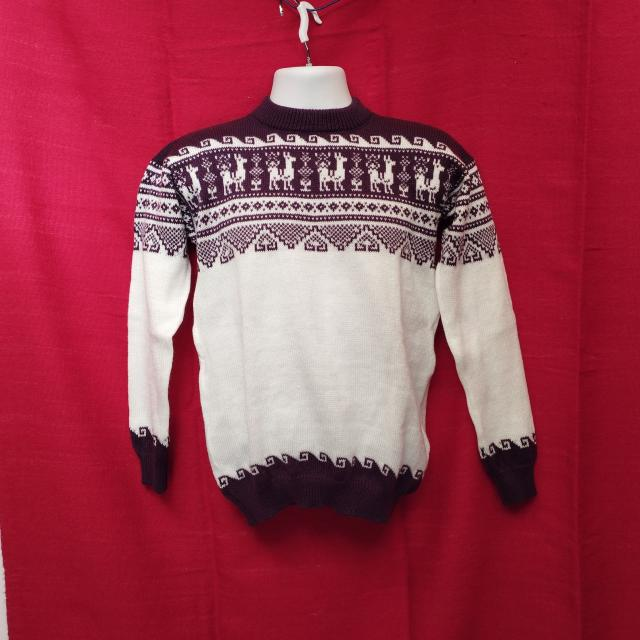Chompa: (126, 62, 539, 528)
